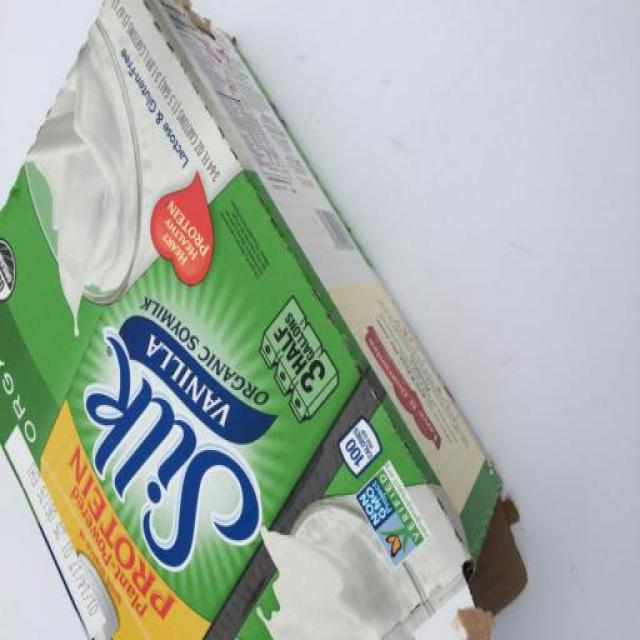cardboard: (9, 5, 537, 640)
